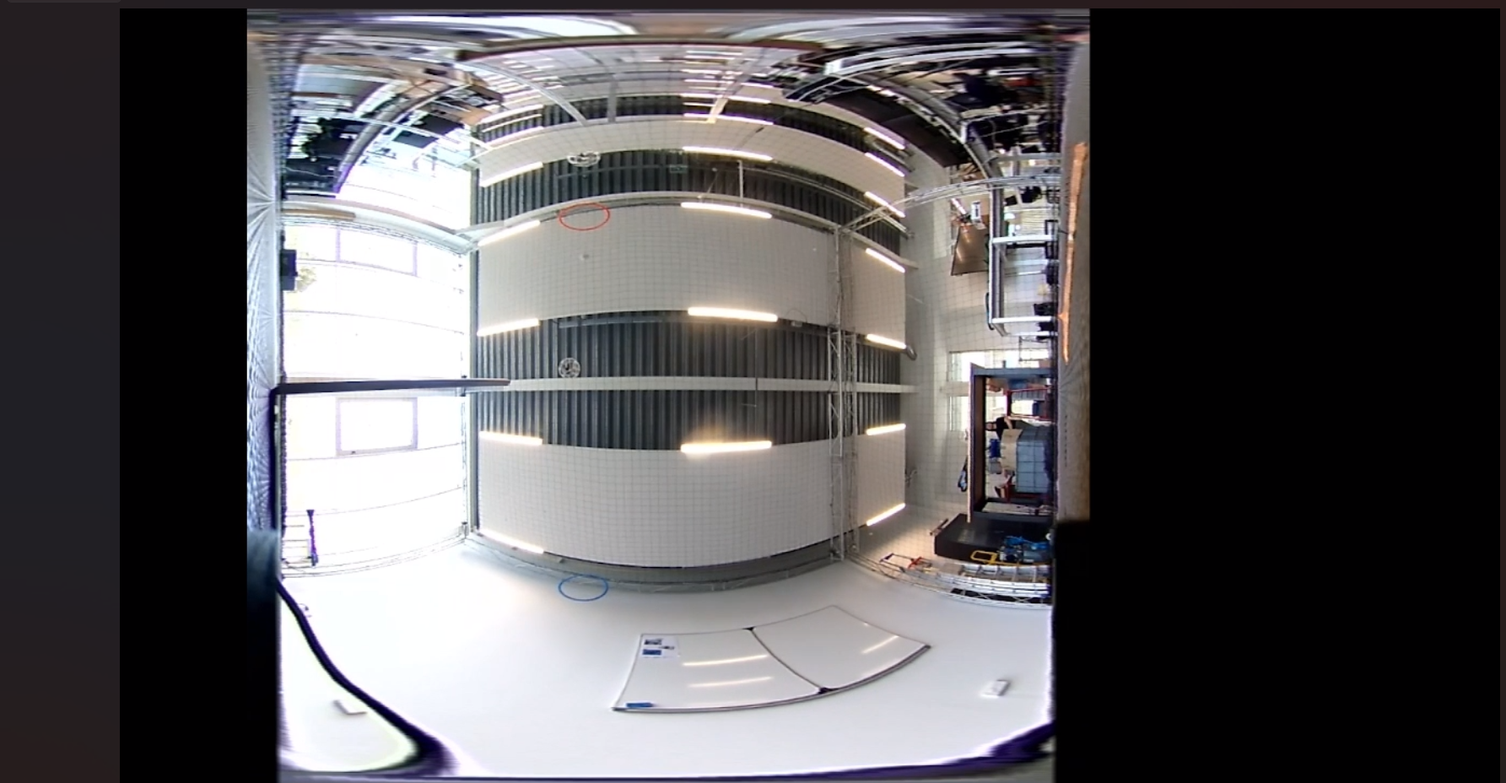Drone: (567, 146, 603, 167), (556, 358, 581, 378)
